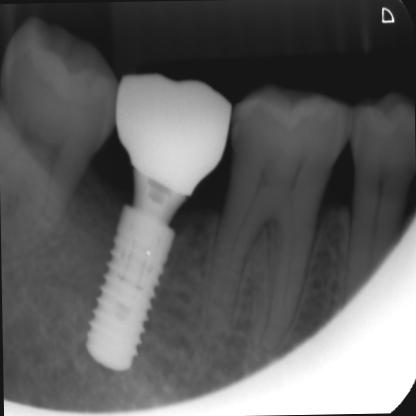ITI: (76, 157, 198, 380)
